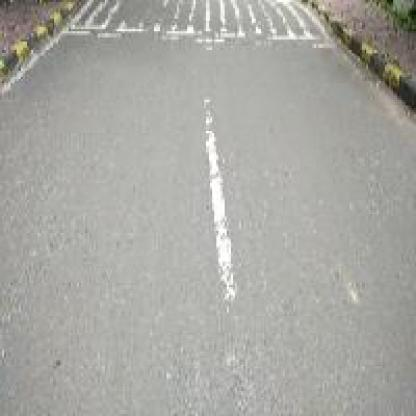Speed Bump: (60, 0, 335, 46)
